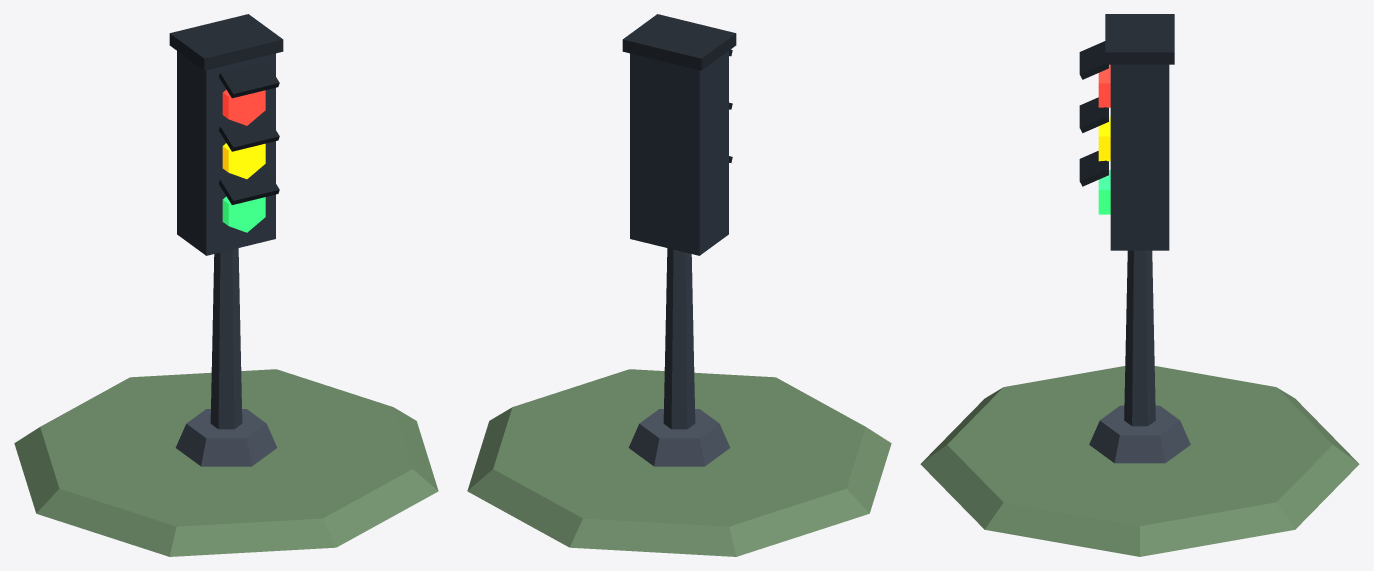
The model's file is low-poly-traffic-light.glb.
3 views of the same model, side by side, from view 1: azimuth 30°, elevation 25°; view 2: azimuth 150°, elevation 25°; view 3: azimuth 270°, elevation 25° (orthographic).
Parts seen in each view (by area): view 1: Ground, Housing, Pole, Roof, Base, Visor_Red, Visor_Yellow, Visor_Green, Lamp_Yellow, Lamp_Green, Lamp_Red; view 2: Ground, Housing, Pole, Roof, Base; view 3: Ground, Housing, Pole, Base, Roof, Visor_Red, Visor_Yellow, Visor_Green.
Boxes of the visible parts, x1,y1,x2,y2 form: Ground: (14, 369, 438, 556); Housing: (177, 51, 275, 255); Pole: (210, 248, 242, 429); Roof: (169, 14, 283, 70); Base: (175, 409, 277, 466); Visor_Red: (219, 61, 279, 98); Visor_Yellow: (219, 115, 279, 151); Visor_Green: (219, 168, 279, 204); Lamp_Yellow: (222, 143, 265, 179); Lamp_Green: (222, 196, 265, 232); Lamp_Red: (222, 89, 265, 125); Ground: (467, 369, 891, 556); Housing: (630, 51, 728, 255); Pole: (663, 248, 695, 429); Roof: (622, 14, 736, 70); Base: (628, 409, 730, 466); Ground: (920, 366, 1359, 556); Housing: (1110, 64, 1169, 250); Pole: (1124, 250, 1155, 426); Base: (1089, 405, 1190, 463); Roof: (1105, 14, 1174, 64); Visor_Red: (1079, 41, 1108, 79); Visor_Yellow: (1079, 97, 1108, 133); Visor_Green: (1079, 151, 1108, 186).
Size of the model in its own units: 8.2 by 8.88 by 8.2.
1 material, 1 textured.
